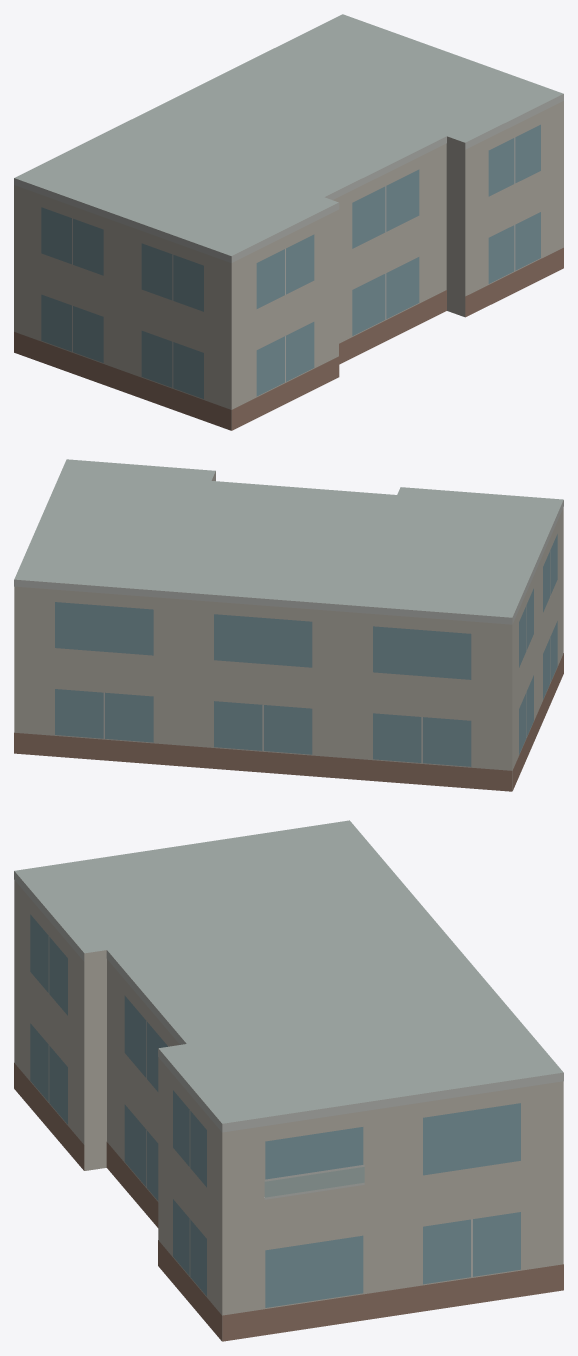
Rendered from survey-upis-32702161.glb.
3 renders of one model, top to bottom at view 1: azimuth 30°, elevation 25°; view 2: azimuth 150°, elevation 25°; view 3: azimuth 270°, elevation 25°, orthographic. The views are drawn at different scales.
Visible parts, largest first — view 1: survey-upis-32702161.tmp; view 2: survey-upis-32702161.tmp; view 3: survey-upis-32702161.tmp.
Part boxes in pixels (x1,y1,x2,y2): survey-upis-32702161.tmp: (14, 14, 563, 430); survey-upis-32702161.tmp: (14, 459, 563, 791); survey-upis-32702161.tmp: (14, 820, 563, 1341).
Size of the model in its own units: 18.24 by 6.1 by 13.96.
